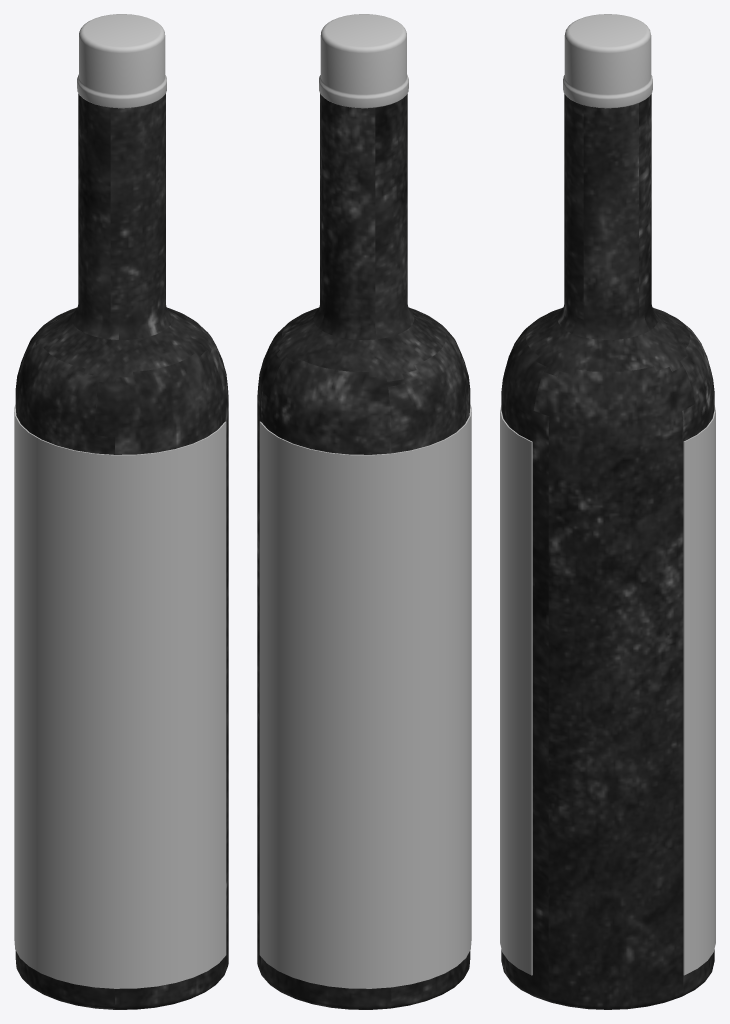
The model's file is SM_Vintage_Bar_Bottle_00.fbx.
The picture shows the model from 3 angles, left to right: view 1: azimuth 30°, elevation 25°; view 2: azimuth 150°, elevation 25°; view 3: azimuth 270°, elevation 25°; orthographic projection.
Parts seen in each view (by area): view 1: SM_Vintage_Bar_Bottle_00; view 2: SM_Vintage_Bar_Bottle_00; view 3: SM_Vintage_Bar_Bottle_00.
Boxes of the visible parts, x1,y1,x2,y2 form: SM_Vintage_Bar_Bottle_00: [14, 14, 228, 1009]; SM_Vintage_Bar_Bottle_00: [257, 14, 471, 1009]; SM_Vintage_Bar_Bottle_00: [500, 14, 715, 1009].
Bounding box in the file's own units: 5.48 × 5.51 × 26.38.
